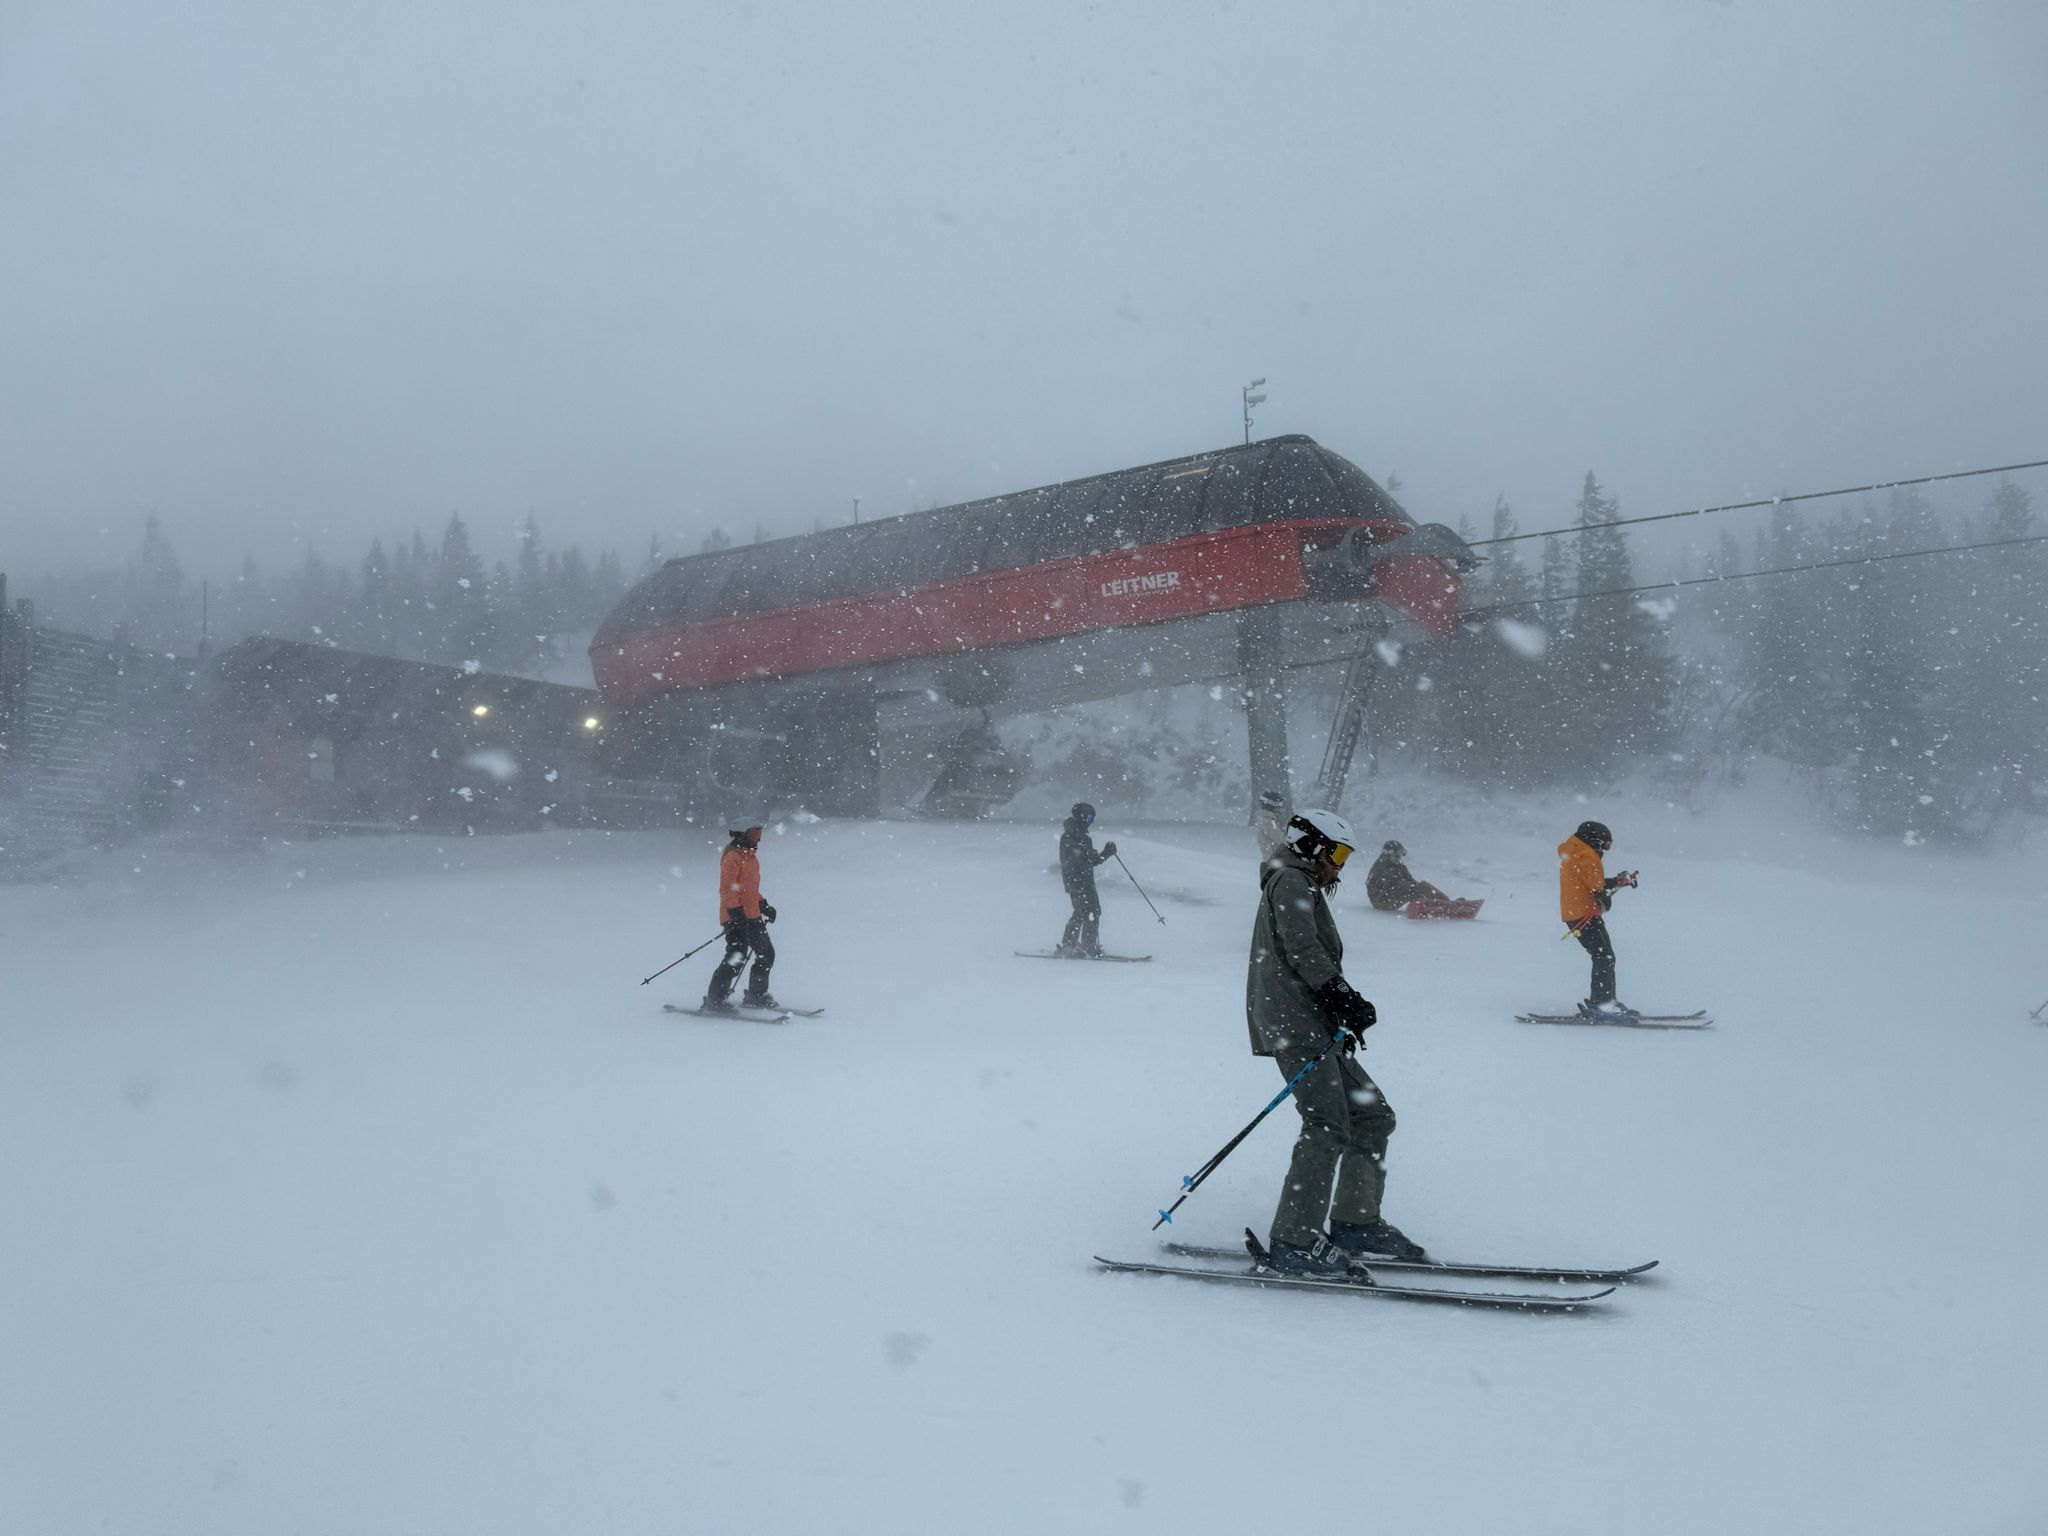skier: (1063, 799, 1698, 1342), (1492, 797, 1724, 1041), (629, 807, 856, 1046), (1001, 791, 1184, 968)
